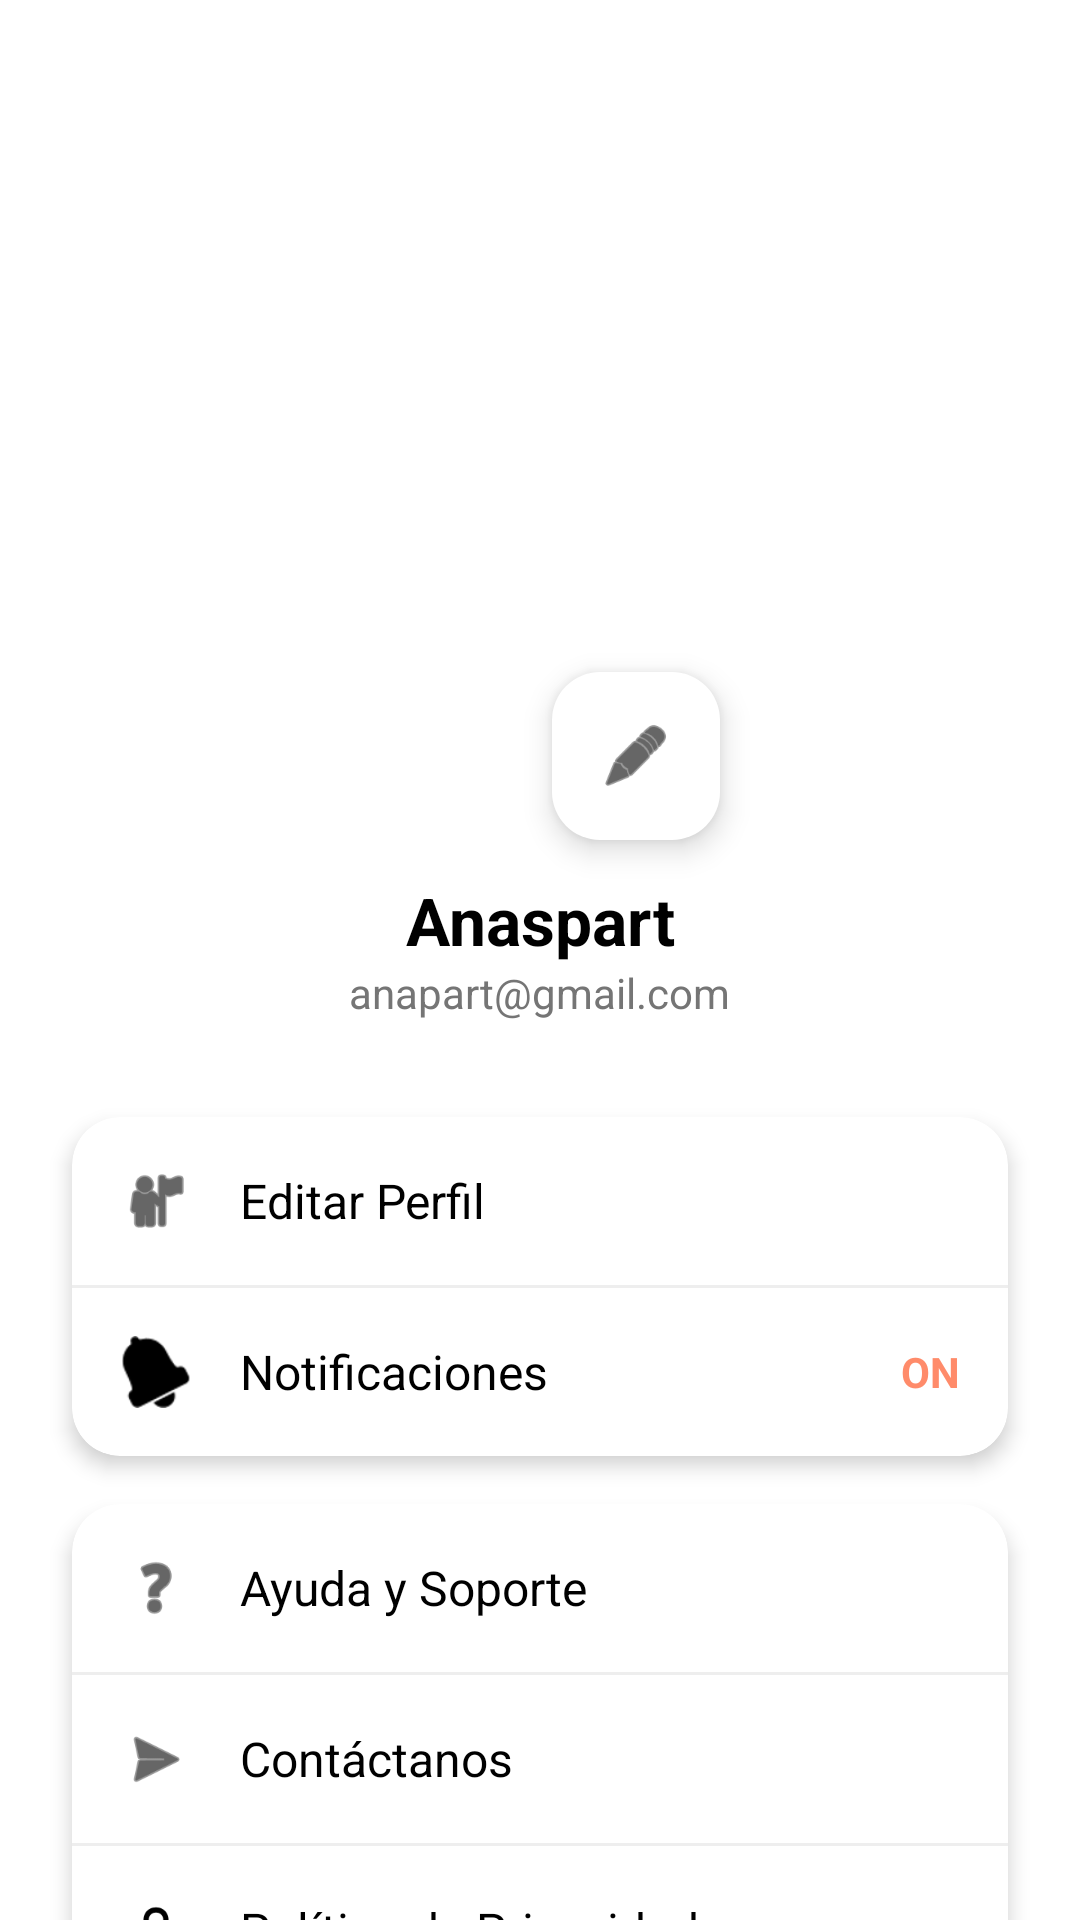

Icon click points for this 1080 × 1920 phone screenshot, format (x,y):
Contacto: (156,1759)
